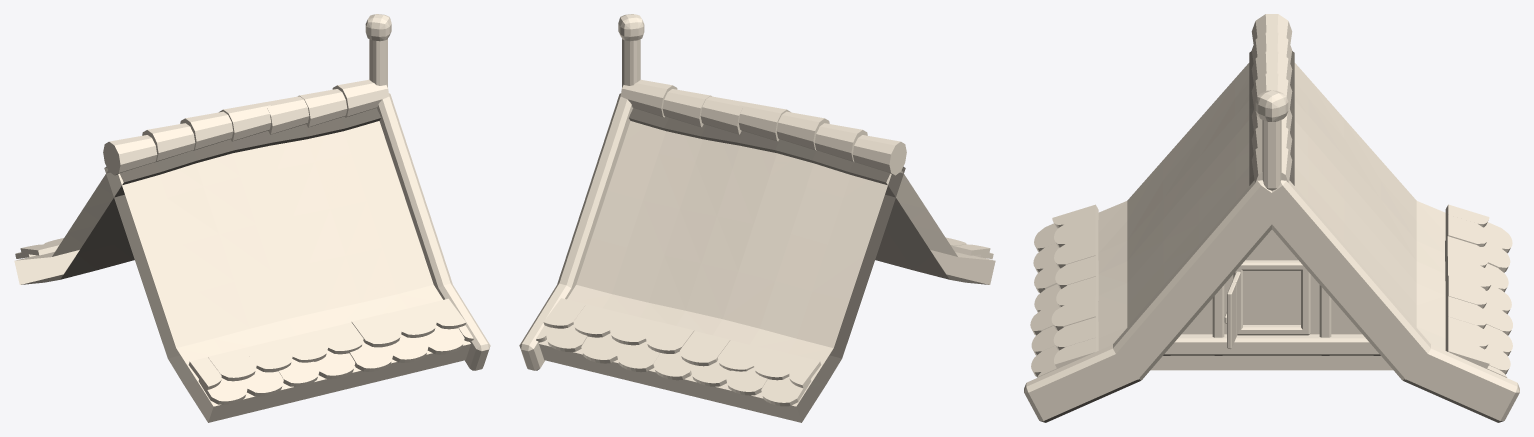
Rendered from SM_VK_RoofS_Gable_Planks.fbx.
The picture shows the model from 3 angles, left to right: view 1: azimuth 30°, elevation 25°; view 2: azimuth 150°, elevation 25°; view 3: azimuth 270°, elevation 25°; orthographic projection. The views are drawn at different scales.
Parts seen in each view (by area): view 1: SM_VK_RoofS_Gable_Planks.001; view 2: SM_VK_RoofS_Gable_Planks.001; view 3: SM_VK_RoofS_Gable_Planks.001.
Boxes of the visible parts, bbox=[...] form: SM_VK_RoofS_Gable_Planks.001: bbox=[14, 14, 490, 422]; SM_VK_RoofS_Gable_Planks.001: bbox=[519, 14, 995, 422]; SM_VK_RoofS_Gable_Planks.001: bbox=[1024, 14, 1519, 422].
Size of the model in its own units: 3.88 by 3.75 by 5.14.
